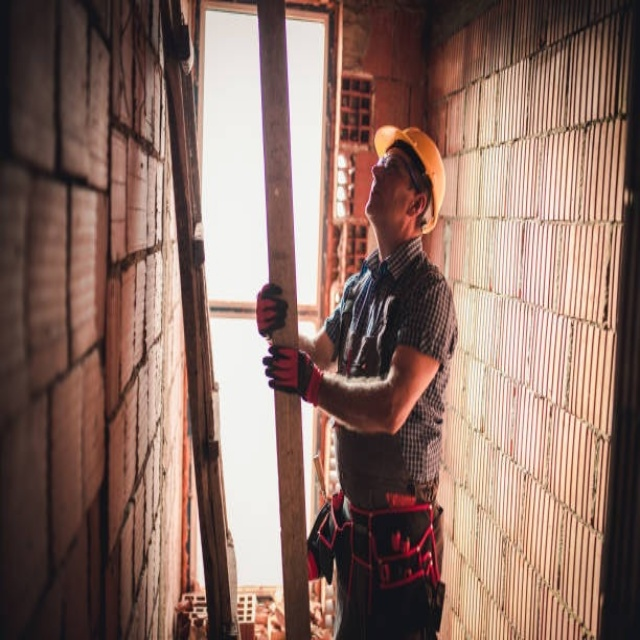Gafas: (383, 142, 426, 200)
Guantes: (263, 344, 322, 405), (256, 283, 289, 340)
Sin_mascara: (365, 180, 378, 212)
